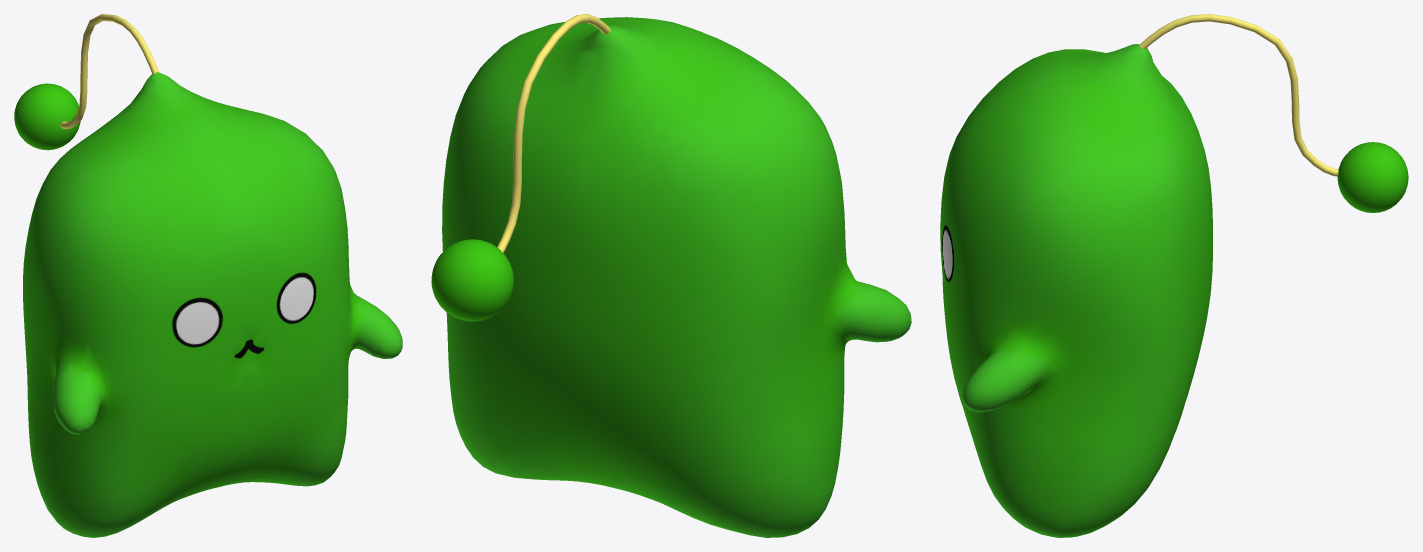
File: slime default.fbx
3 renders of one model, left to right at view 1: azimuth 30°, elevation 25°; view 2: azimuth 150°, elevation 25°; view 3: azimuth 270°, elevation 25°, orthographic. The views are drawn at different scales.
Parts seen in each view (by area): view 1: PM3D_Sphere3D_1, Object001; view 2: PM3D_Sphere3D_1, Object001; view 3: PM3D_Sphere3D_1, Object001.
Boxes of the visible parts, x1,y1,x2,y2 form: PM3D_Sphere3D_1: (23,72,402,537); Object001: (14,14,158,150); PM3D_Sphere3D_1: (442,17,911,537); Object001: (431,14,610,321); PM3D_Sphere3D_1: (940,44,1212,537); Object001: (1139,14,1408,212).
Bounding box in the file's own units: 3842 × 4721 × 4316.
Materials: 2 (2 with a texture image).
